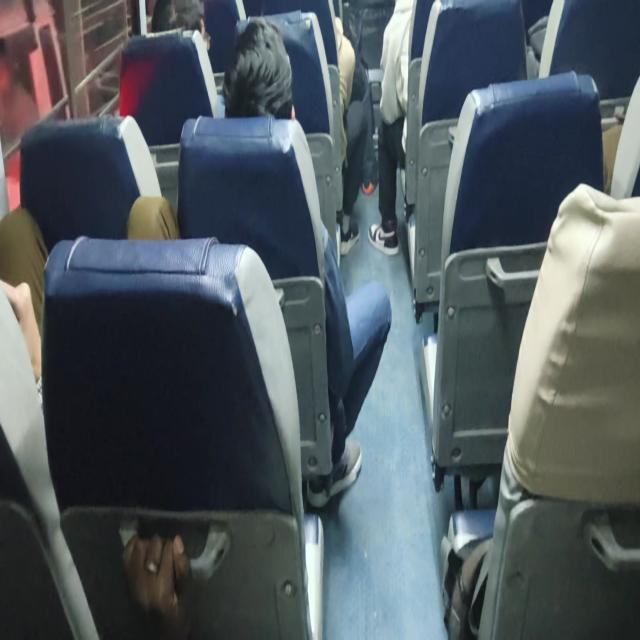person: (224, 31, 298, 119), (156, 0, 218, 65)
